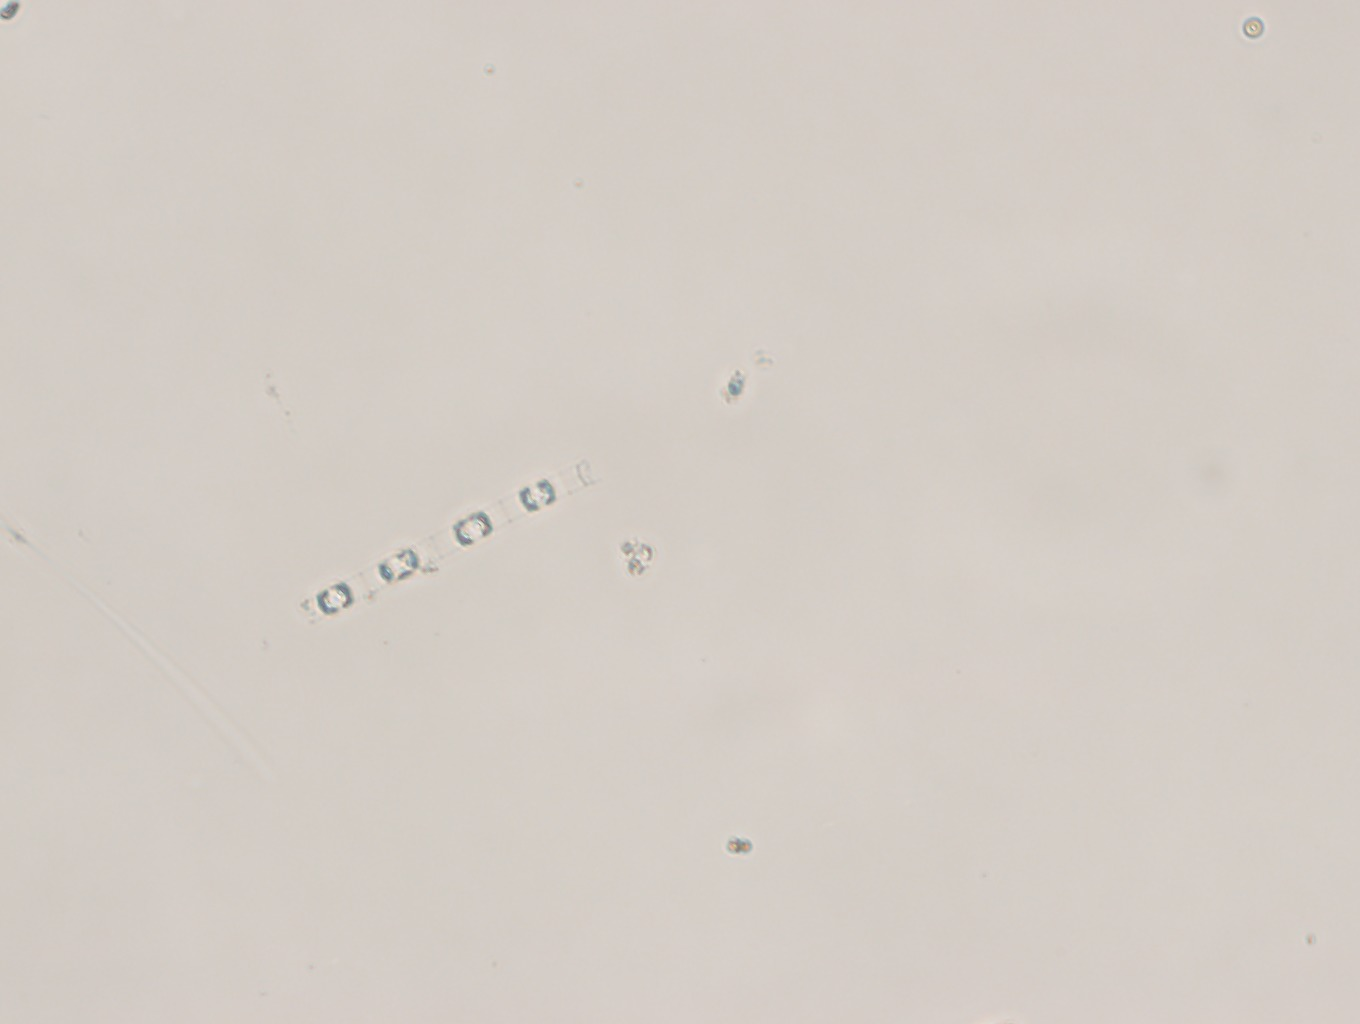skeletonema: (296, 463, 603, 630)
